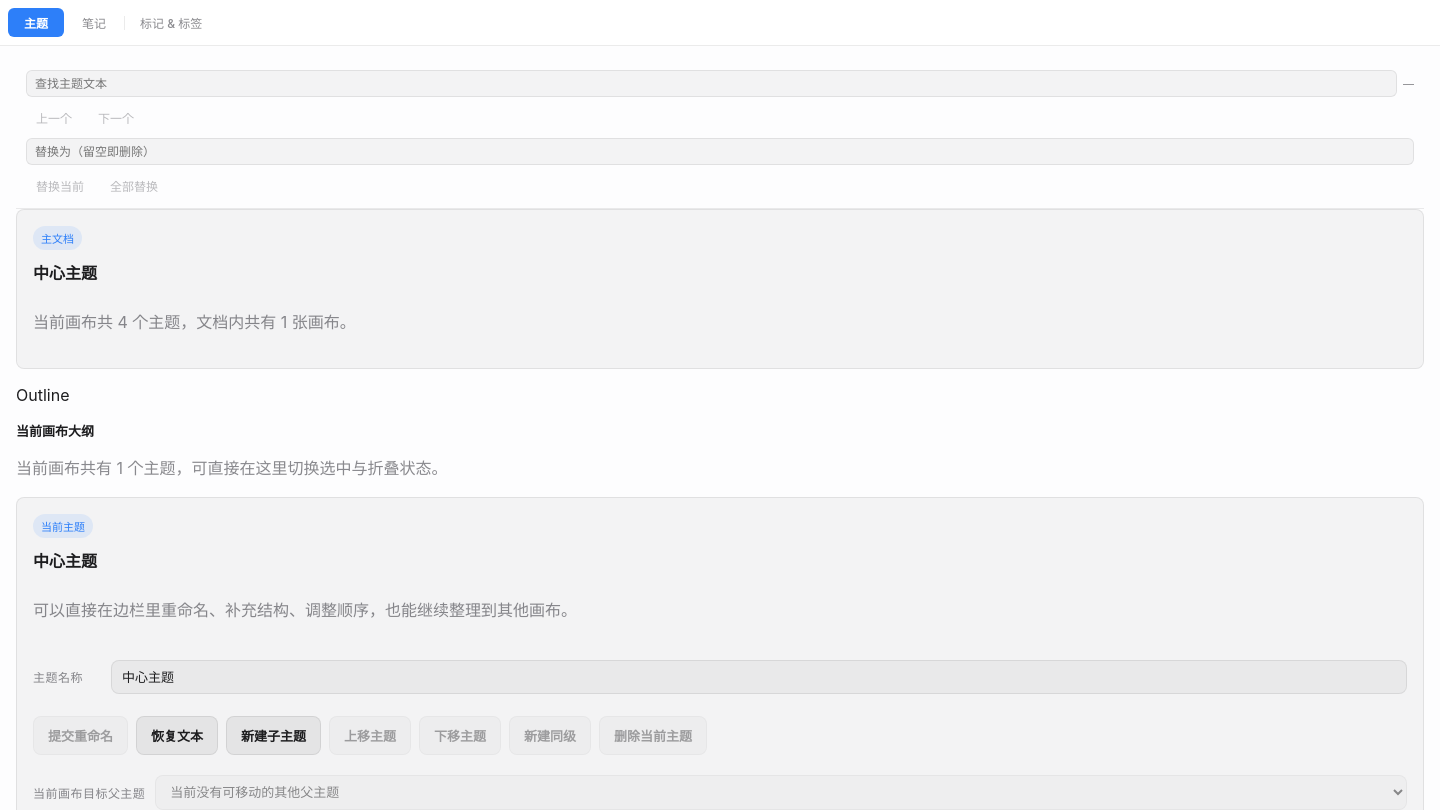
Test: explains how to add markers and labels when the sheet has none
Click the tab "标记 & 标签" at x=171, y=22, box [124,8,218,37]
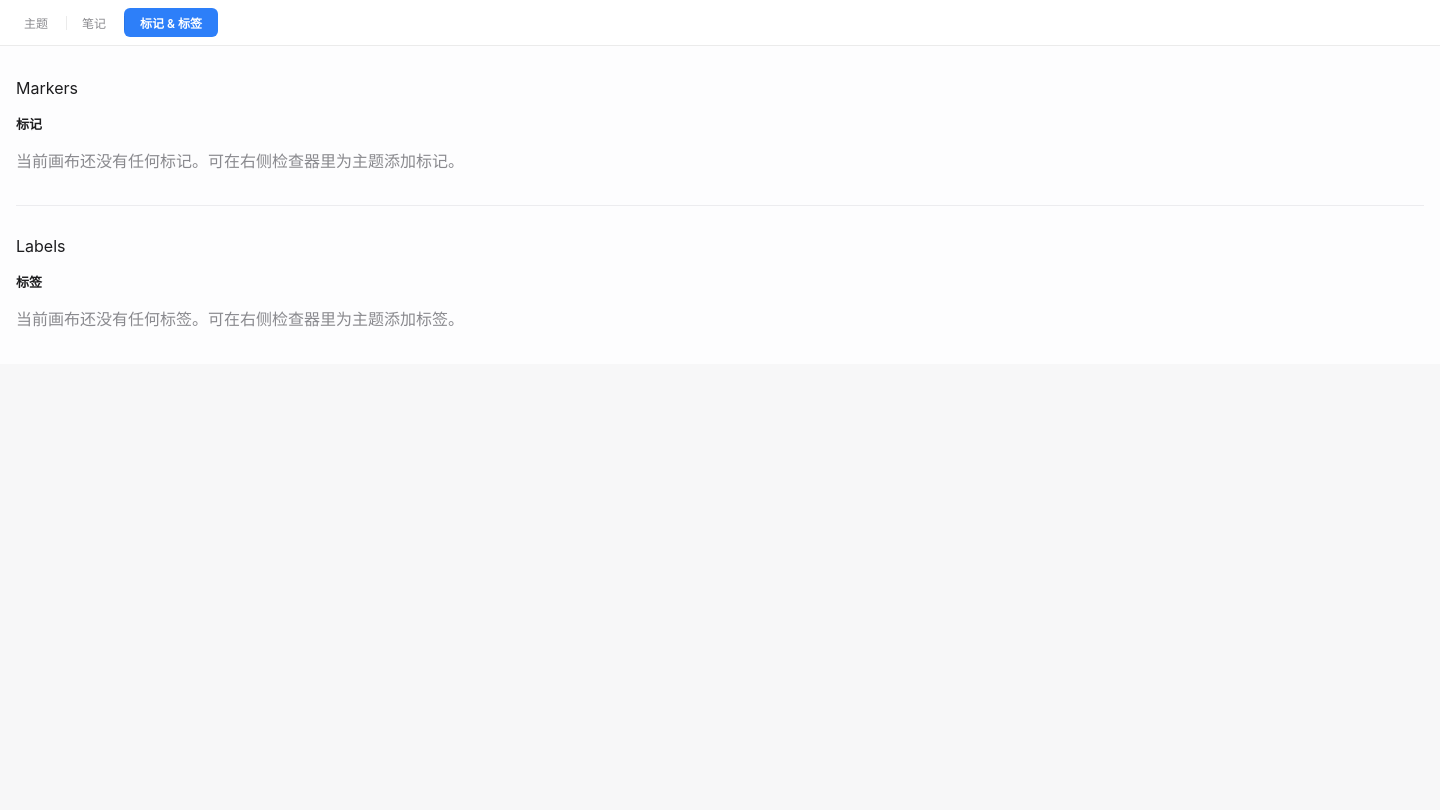
Expected: the text "当前画布还没有任何标记。可在右侧检查器里为主题添加标记。" is shown, [16,151,464,171]
Expected: the text "当前画布还没有任何标签。可在右侧检查器里为主题添加标签。" is shown, [16,309,464,329]
